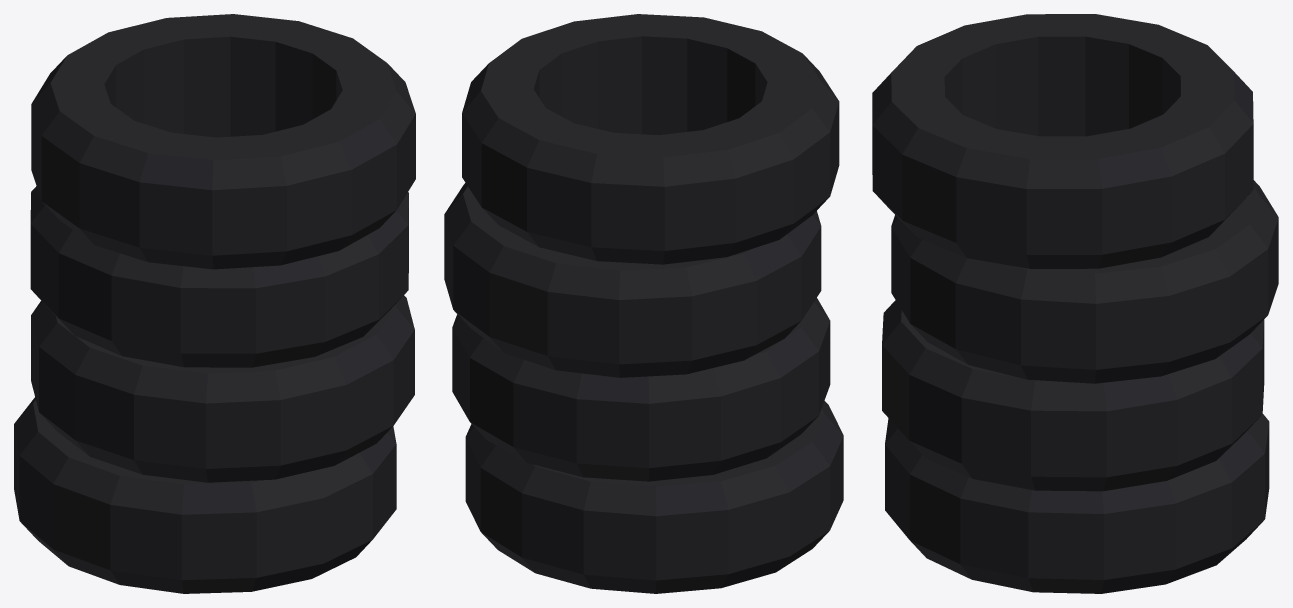
The model's file is Tire_Stack.fbx.
3 views of the same model, side by side, from view 1: azimuth 30°, elevation 25°; view 2: azimuth 150°, elevation 25°; view 3: azimuth 270°, elevation 25° (orthographic). The views are drawn at different scales.
Parts seen in each view (by area): view 1: Tire_Stack; view 2: Tire_Stack; view 3: Tire_Stack.
Part boxes in pixels (box(x1,y1,x2,y2)): Tire_Stack: box(14, 14, 415, 593); Tire_Stack: box(444, 14, 843, 593); Tire_Stack: box(872, 14, 1278, 593).
Bounding box in the file's own units: 0.6717 × 0.8 × 0.6702.
1 material, 1 textured.
